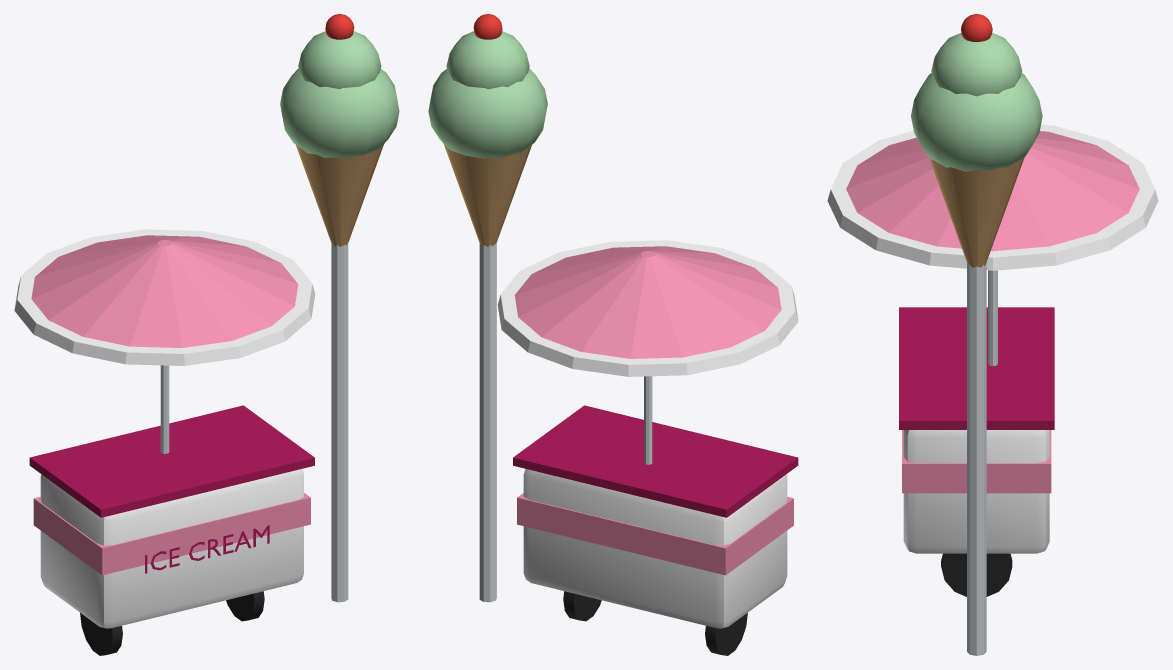
File: roadevents_icecream_stand.glb
The picture shows the model from 3 angles, left to right: view 1: azimuth 30°, elevation 25°; view 2: azimuth 150°, elevation 25°; view 3: azimuth 270°, elevation 25°; orthographic projection. The views are drawn at different scales.
Parts seen in each view (by area): view 1: IceStand; view 2: IceStand; view 3: IceStand.
Boxes of the visible parts, bbox=[...] form: IceStand: bbox=[14, 14, 399, 655]; IceStand: bbox=[428, 14, 798, 655]; IceStand: bbox=[827, 14, 1158, 655].
Size of the model in its own units: 2.72 by 4.33 by 2.04.
